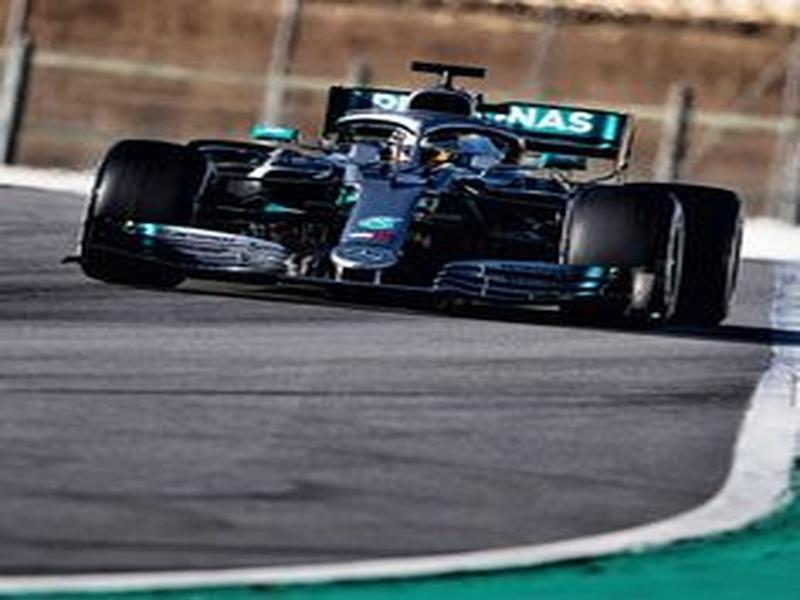f1: (98, 22, 741, 334)
